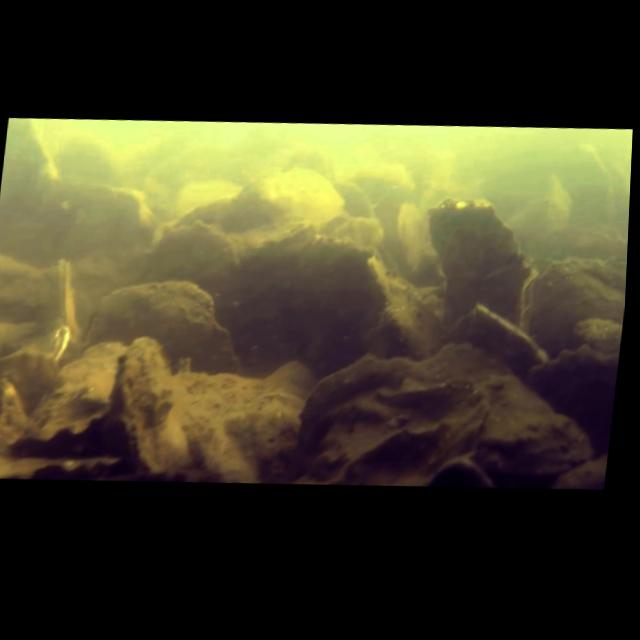Oyster-Closed: (520, 255, 626, 363), (118, 334, 191, 479), (56, 255, 83, 352)
Oyster-Indeterminate: (282, 340, 597, 488), (228, 219, 393, 382), (168, 356, 323, 483), (77, 277, 241, 377), (426, 196, 532, 344), (131, 220, 239, 331), (521, 341, 619, 463), (25, 341, 127, 433), (445, 303, 550, 379)
Oyster-Open: (0, 403, 121, 478)
